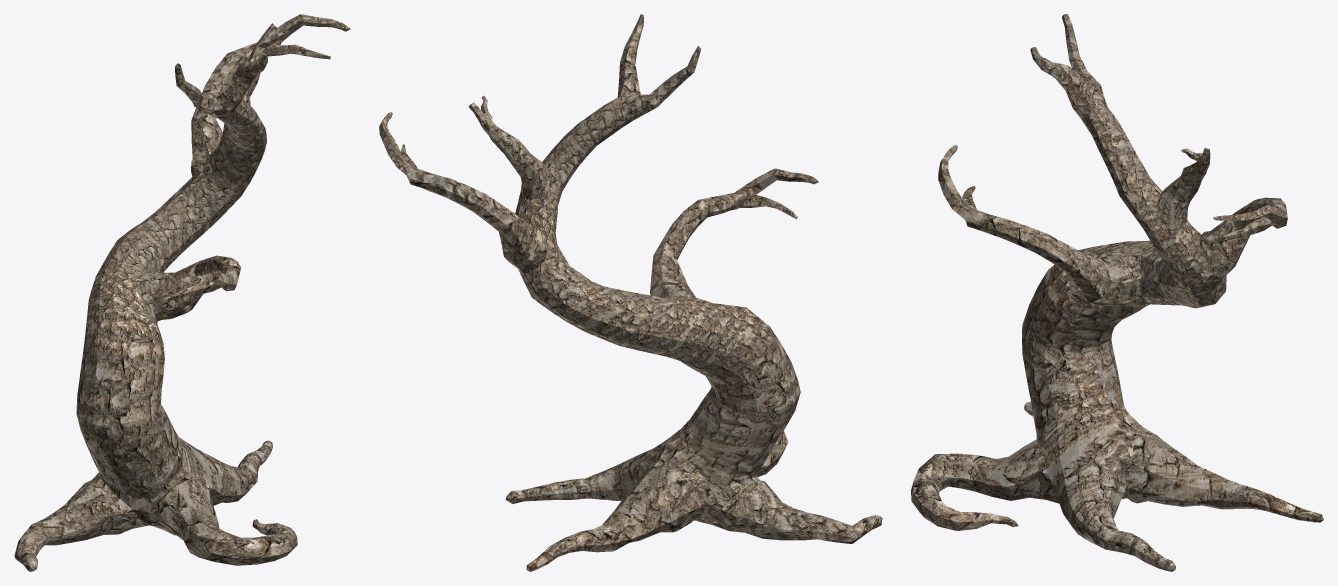
File: TreeTwo 1.fbx
3 views of the same model, side by side, from view 1: azimuth 30°, elevation 25°; view 2: azimuth 150°, elevation 25°; view 3: azimuth 270°, elevation 25° (orthographic). The views are drawn at different scales.
Visible parts, largest first — view 1: Tree_2; view 2: Tree_2; view 3: Tree_2.
Part boxes in pixels (<box>): Tree_2: <box>14,14,350,571</box>; Tree_2: <box>379,14,882,571</box>; Tree_2: <box>911,14,1323,571</box>.
Size of the model in its own units: 772 by 842 by 633.
